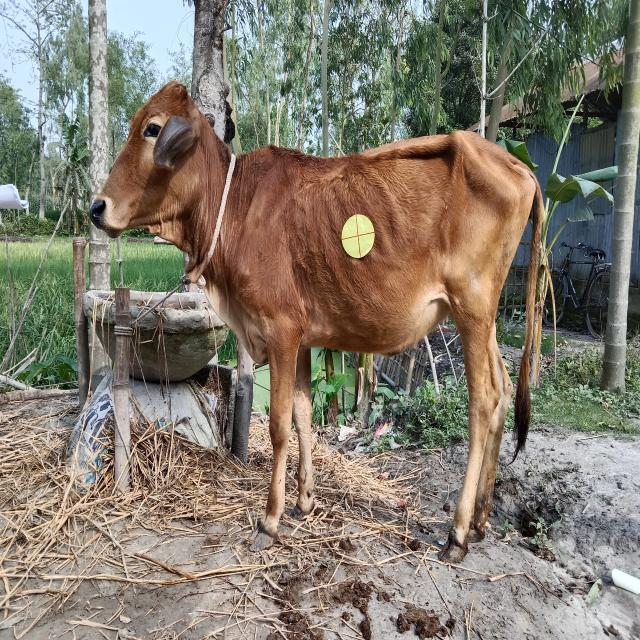badan_sapi: (240, 146, 536, 348)
sapi: (83, 75, 553, 574)
